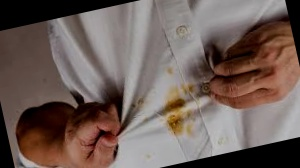oil: (154, 83, 207, 148), (130, 95, 153, 124), (164, 66, 180, 78), (141, 148, 154, 160)
